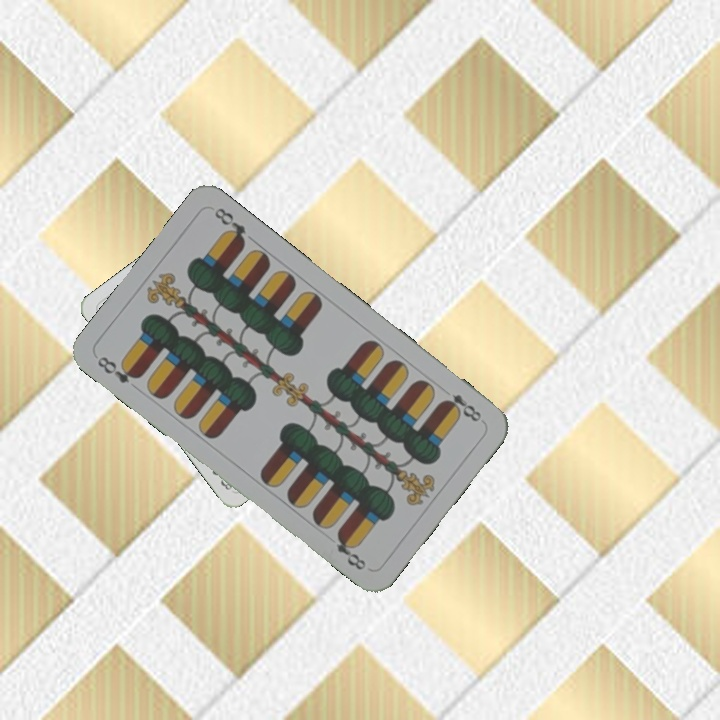E8: (93, 352, 144, 387), (437, 389, 484, 425)
